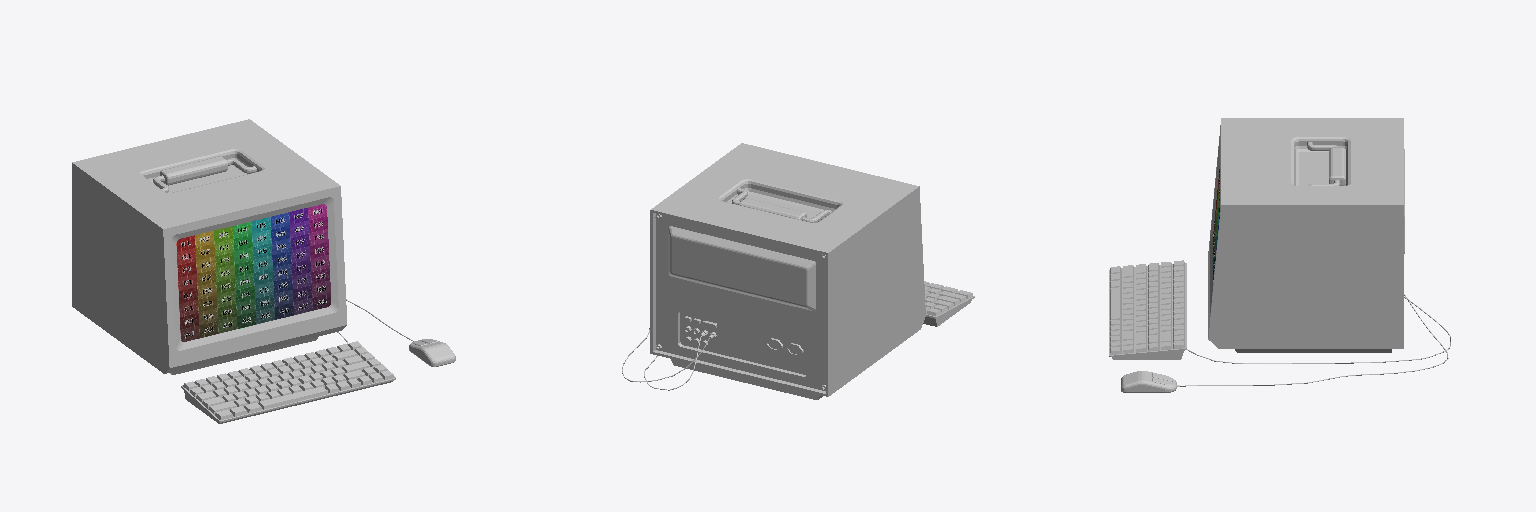
The picture shows the model from 3 angles: view 1: azimuth 30°, elevation 25°; view 2: azimuth 150°, elevation 25°; view 3: azimuth 270°, elevation 25°; orthographic projection.
Parts seen in each view (by area): view 1: Monitor_Plane.001, Keyboard_Cube.002, Handle_Plane.006, Mause_Plane.005; view 2: Monitor_Plane.001, Keyboard_Cube.002, Handle_Plane.006; view 3: Monitor_Plane.001, Keyboard_Cube.002, Mause_Plane.005, Handle_Plane.006, Wire_Plane.017.
Part boxes in pixels (bbox=[...]): Monitor_Plane.001: bbox=[72, 119, 346, 374]; Keyboard_Cube.002: bbox=[181, 341, 395, 423]; Handle_Plane.006: bbox=[153, 156, 256, 192]; Mause_Plane.005: bbox=[409, 339, 455, 366]; Monitor_Plane.001: bbox=[650, 143, 925, 399]; Keyboard_Cube.002: bbox=[923, 281, 974, 326]; Handle_Plane.006: bbox=[732, 188, 831, 222]; Monitor_Plane.001: bbox=[1208, 118, 1404, 352]; Keyboard_Cube.002: bbox=[1109, 260, 1186, 359]; Mause_Plane.005: bbox=[1121, 371, 1179, 392]; Handle_Plane.006: bbox=[1307, 142, 1345, 185]; Wire_Plane.017: bbox=[1180, 294, 1450, 386].
Bounding box in the file's own units: 0.5711 × 0.3483 × 0.6931.
Materials: 3 (1 with a texture image).